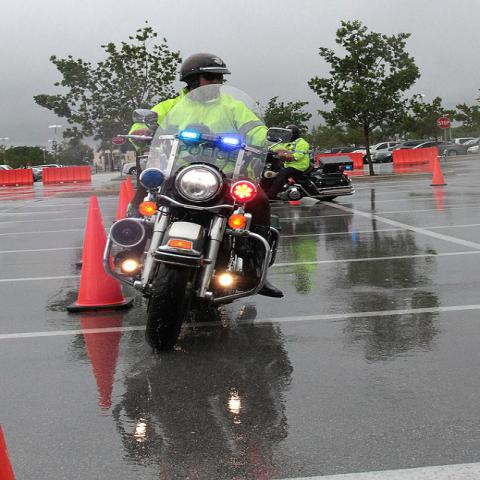car: (266, 69, 479, 389), (353, 140, 398, 161), (415, 142, 467, 156), (123, 155, 150, 176), (372, 147, 396, 163), (309, 150, 332, 162), (396, 141, 425, 150), (452, 137, 476, 147), (336, 148, 363, 153), (30, 164, 61, 168), (467, 144, 479, 154), (33, 167, 42, 177), (0, 165, 14, 170)
motorcycle: (106, 83, 294, 353), (262, 153, 354, 203)
